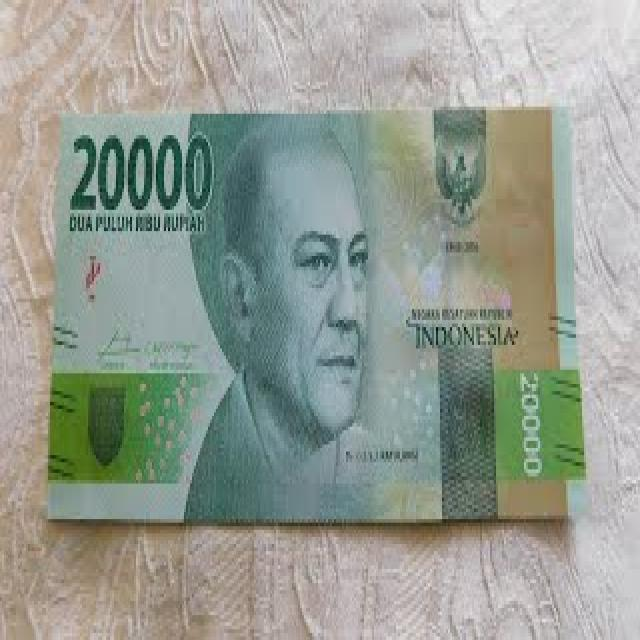dua puluh ribu rupiah: (62, 110, 590, 530), (217, 132, 374, 431), (70, 130, 210, 211)
